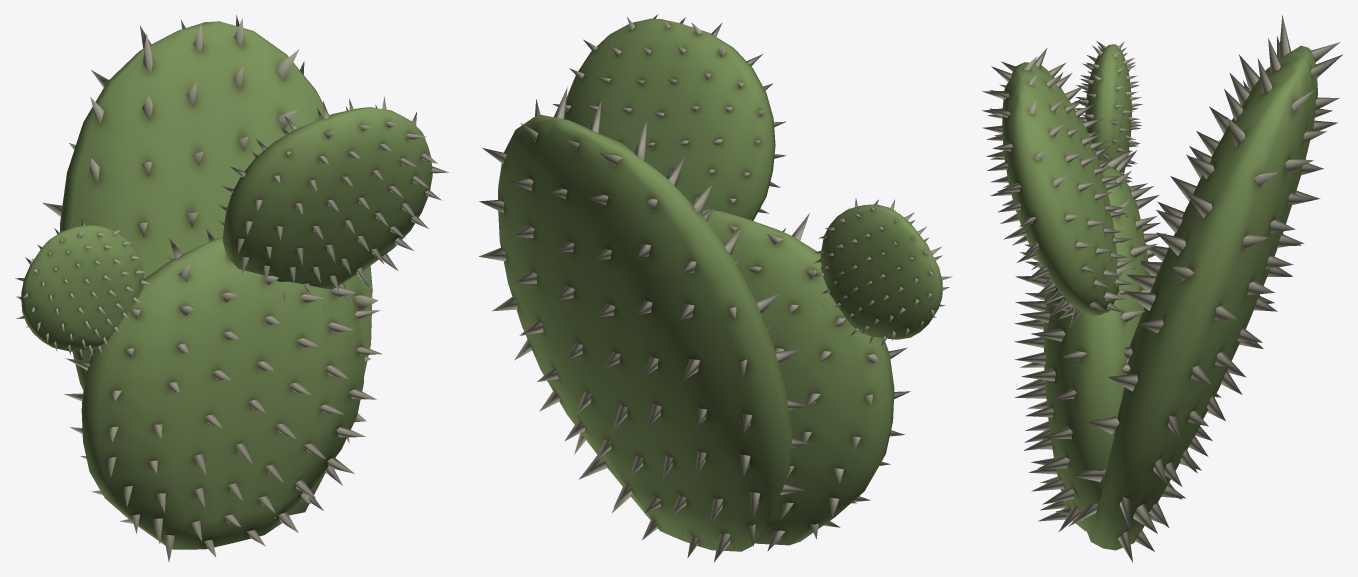
The model's file is sb_obj_nature012_Cactus03a.fbx.
3 renders of one model, left to right at view 1: azimuth 30°, elevation 25°; view 2: azimuth 150°, elevation 25°; view 3: azimuth 270°, elevation 25°, orthographic. The views are drawn at different scales.
Visible parts, largest first — view 1: sb_obj_nature012_Cactus03a; view 2: sb_obj_nature012_Cactus03a; view 3: sb_obj_nature012_Cactus03a.
Boxes of the visible parts, x1,y1,x2,y2 form: sb_obj_nature012_Cactus03a: [15, 15, 448, 561]; sb_obj_nature012_Cactus03a: [479, 14, 952, 562]; sb_obj_nature012_Cactus03a: [982, 15, 1342, 562].
Bounding box in the file's own units: 0.7042 × 0.7804 × 0.5046.
